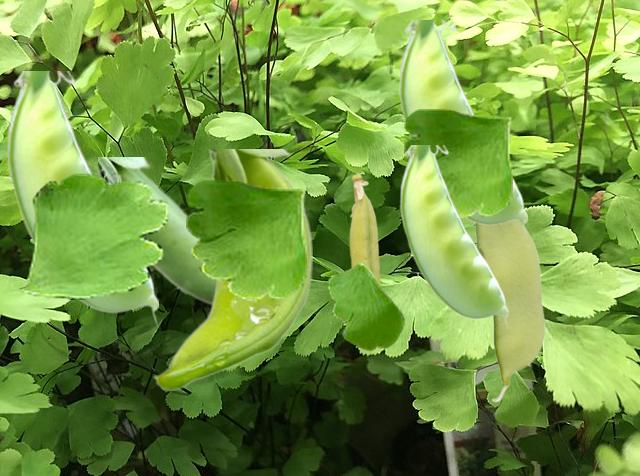pea: (6, 71, 157, 326), (152, 149, 311, 389), (398, 20, 526, 236), (399, 145, 507, 328), (98, 157, 214, 307), (475, 220, 544, 401), (349, 172, 381, 350)
